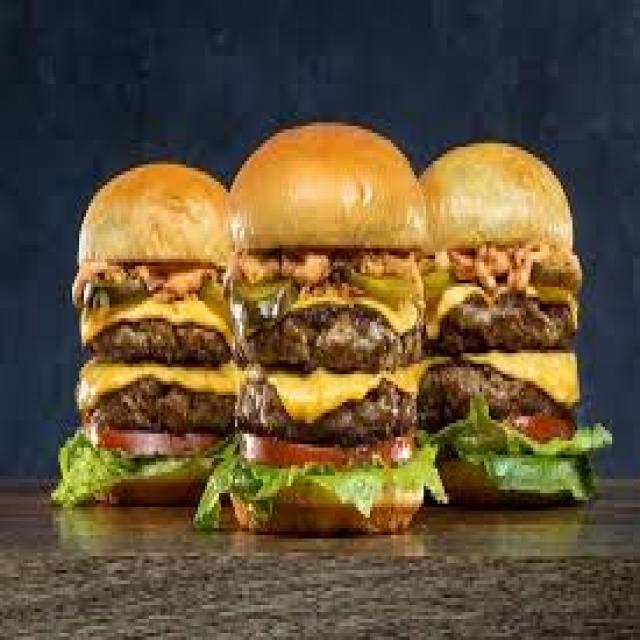Wet Waste: (242, 140, 422, 554), (428, 140, 600, 520), (63, 173, 235, 502)
